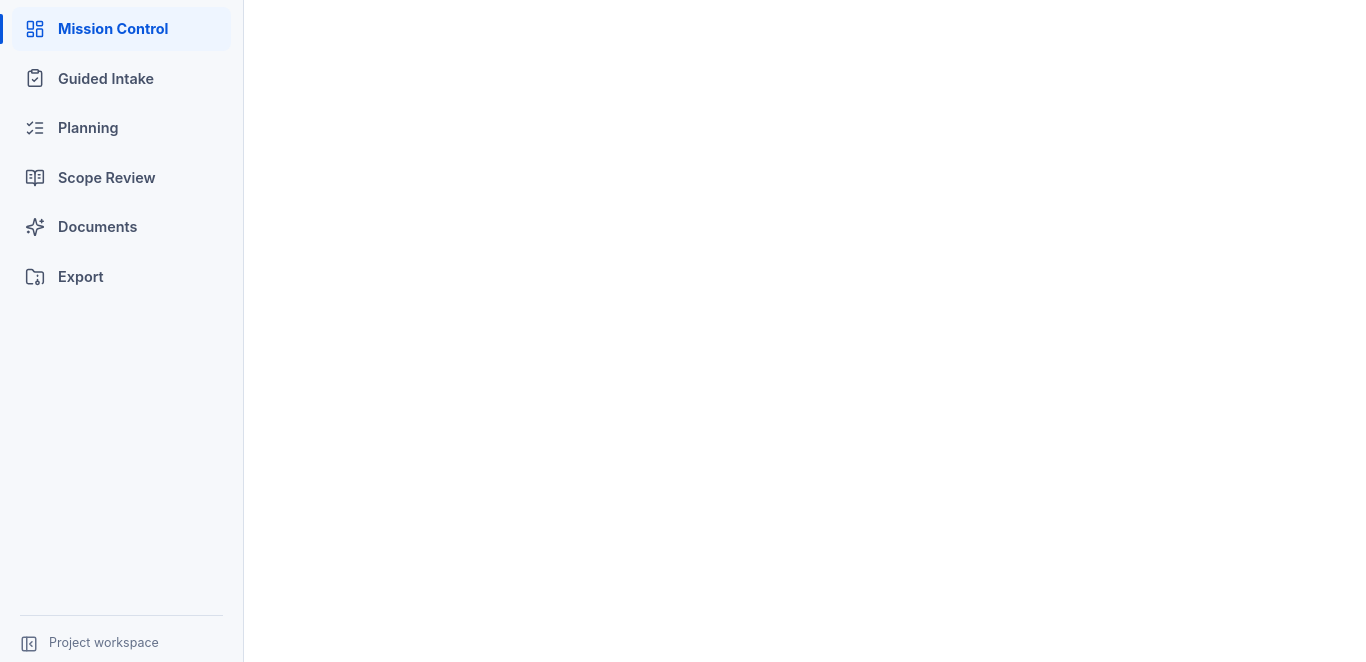
Test: App - planning decisions › keeps undecided backend answer entry unavailable after Deferred resume
The width and height of the screenshot is (1366, 662).
Click the button "Planning" at (122, 128), box [12,106,231,150]
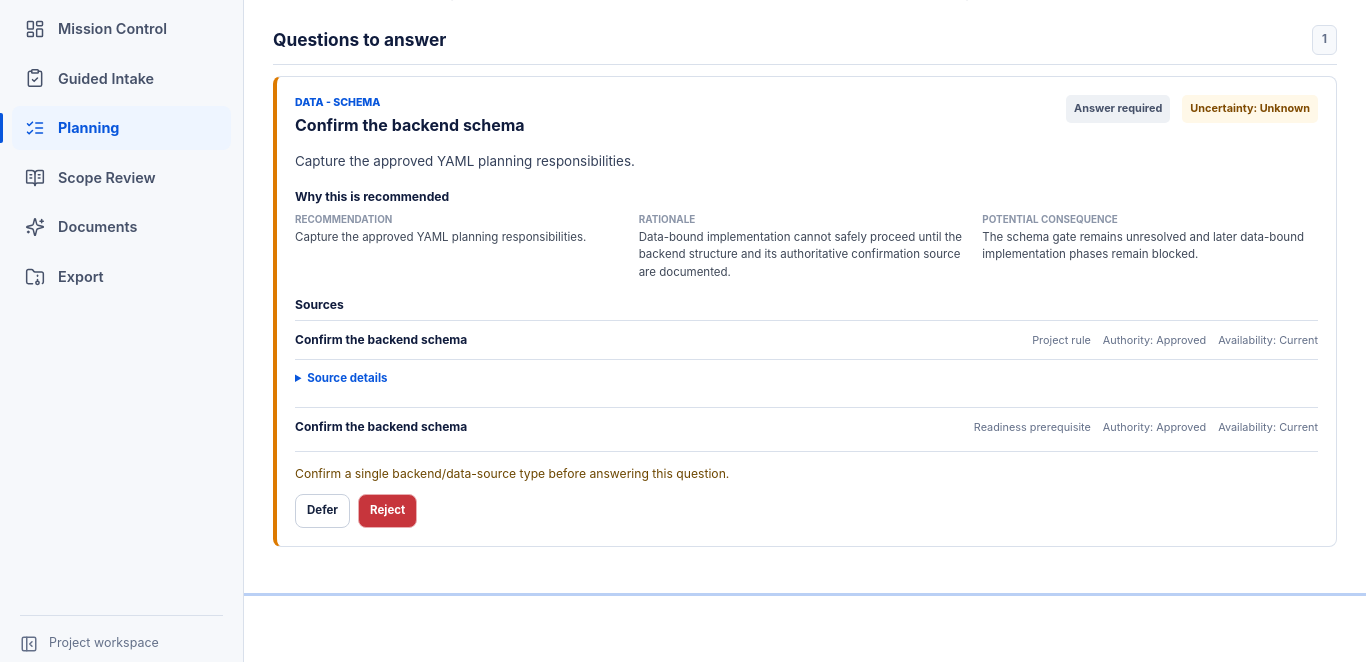
Click the button "Defer" at (323, 510), box [295,494,350,528]
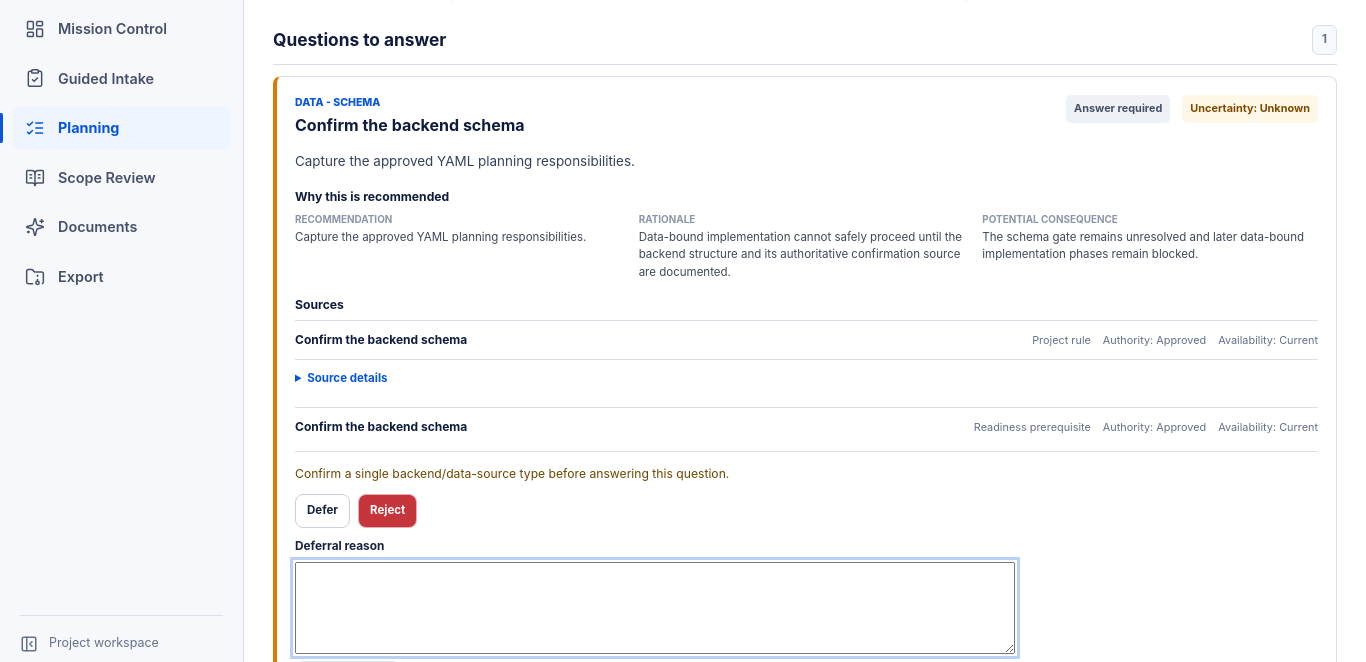
Type "Waiting for backend schema approval." into the text box labelled "Deferral reason" at (655, 608), box [295,562,1015,654]
(page scrolled)
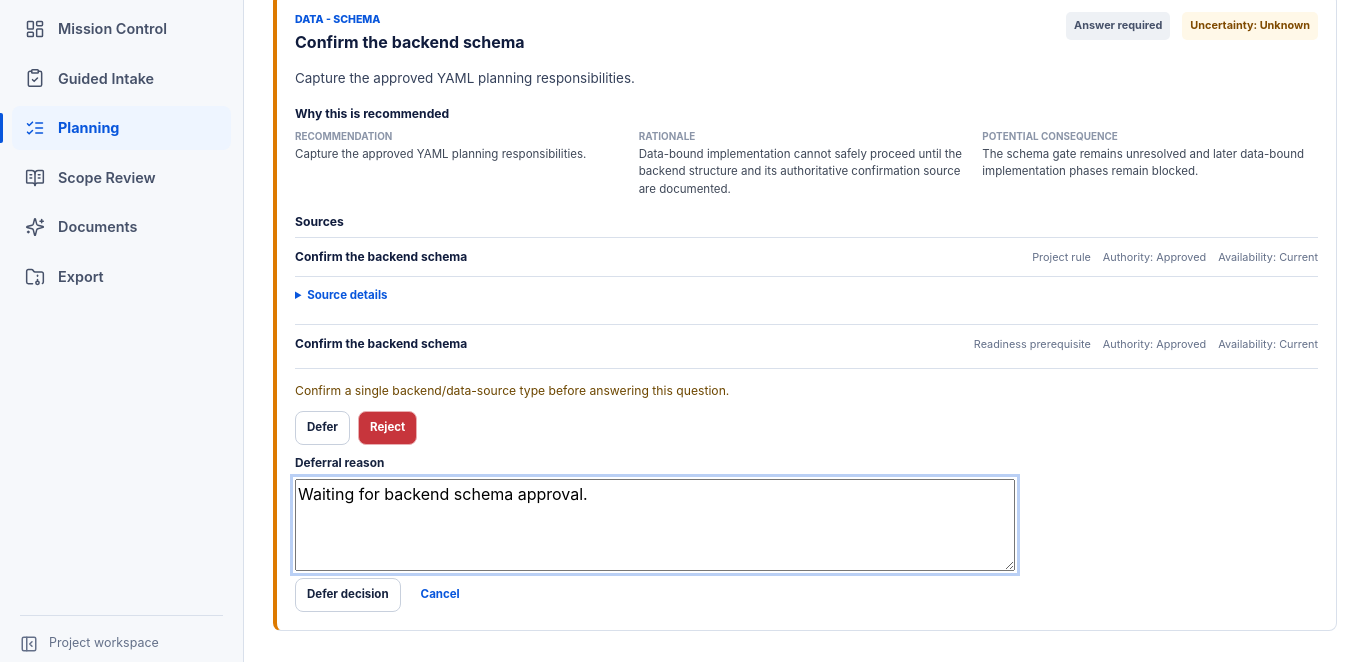
Click the button "Defer decision" at (348, 595), box [295,578,401,612]
(page scrolled)
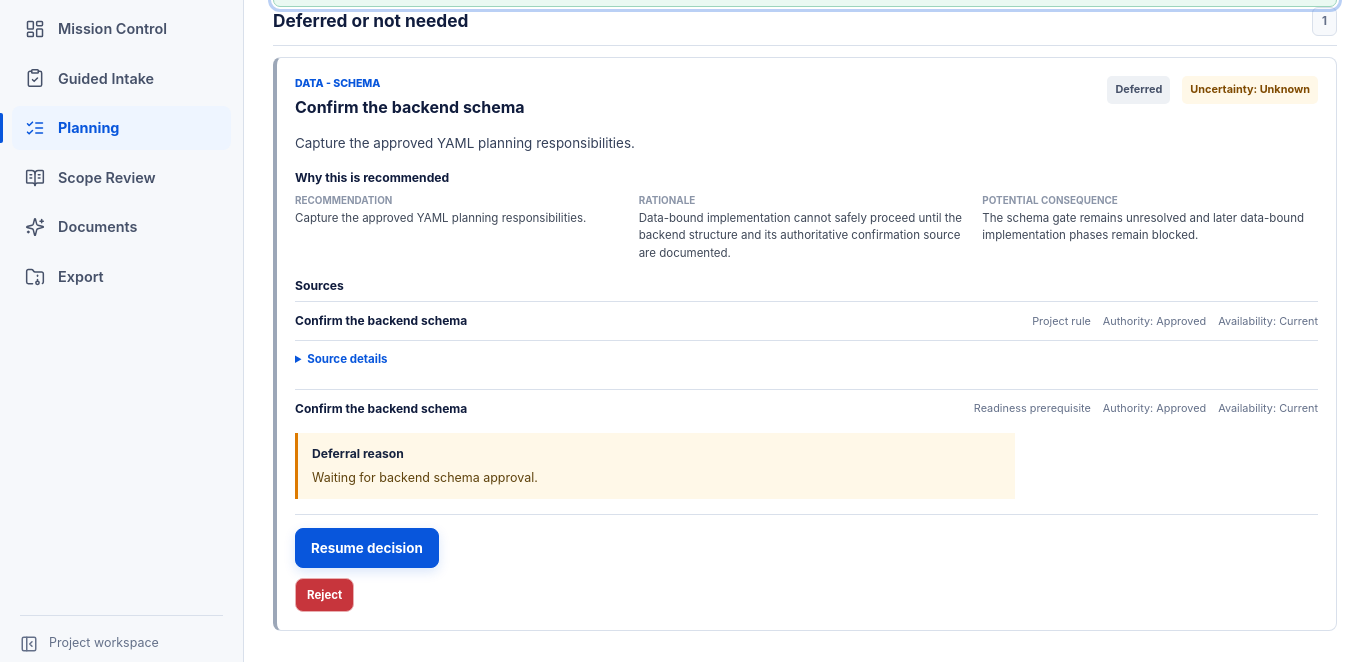
Click the button "Resume decision" at (367, 548), box [295,528,439,568]
(page scrolled)
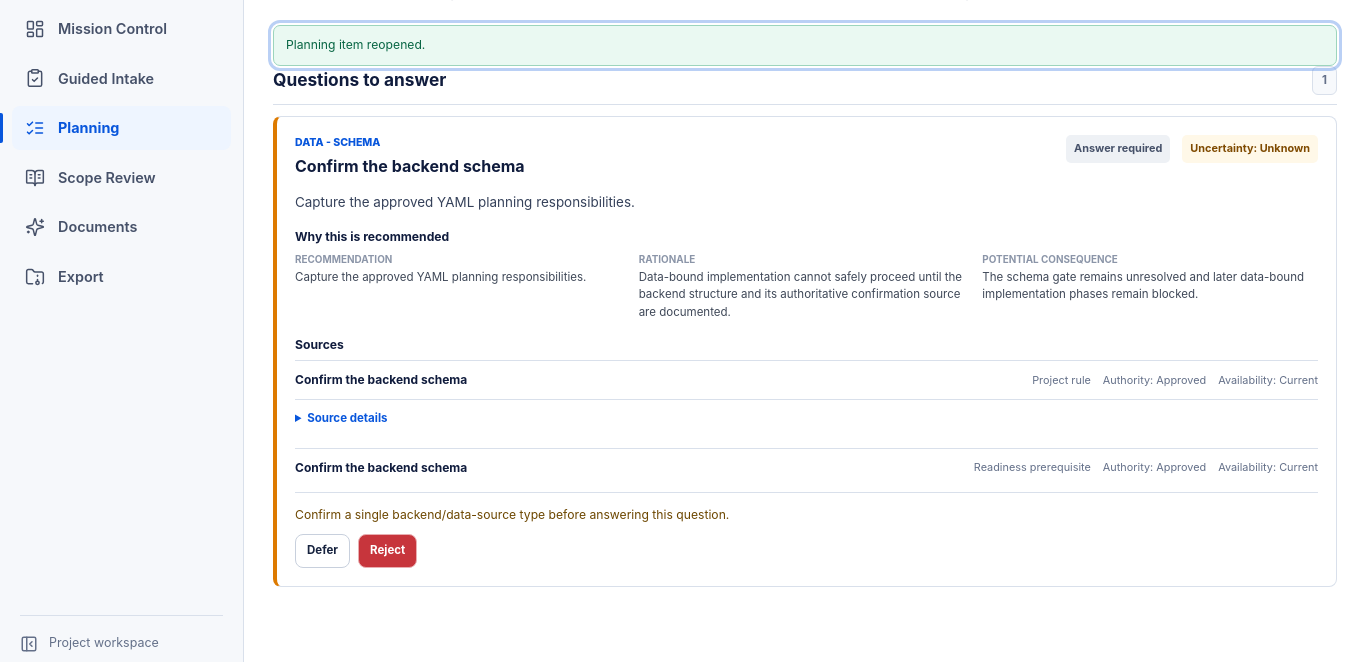
Check: the text "Confirm a single backend/data-source type before answering this question." is shown, box [295,506,729,522]
